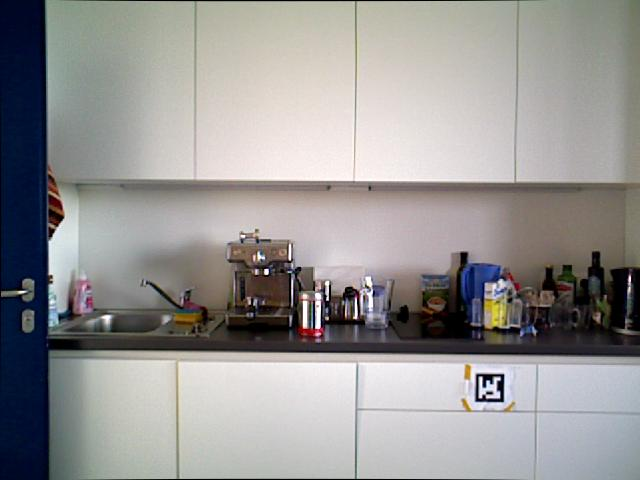bench: (69, 268, 96, 316), (455, 251, 473, 319), (587, 250, 605, 315), (557, 262, 576, 319), (540, 264, 557, 319), (47, 274, 59, 327)
couch: (64, 303, 187, 336)
giraffe: (396, 303, 411, 320)
handbag: (356, 272, 397, 332), (460, 262, 503, 313)
